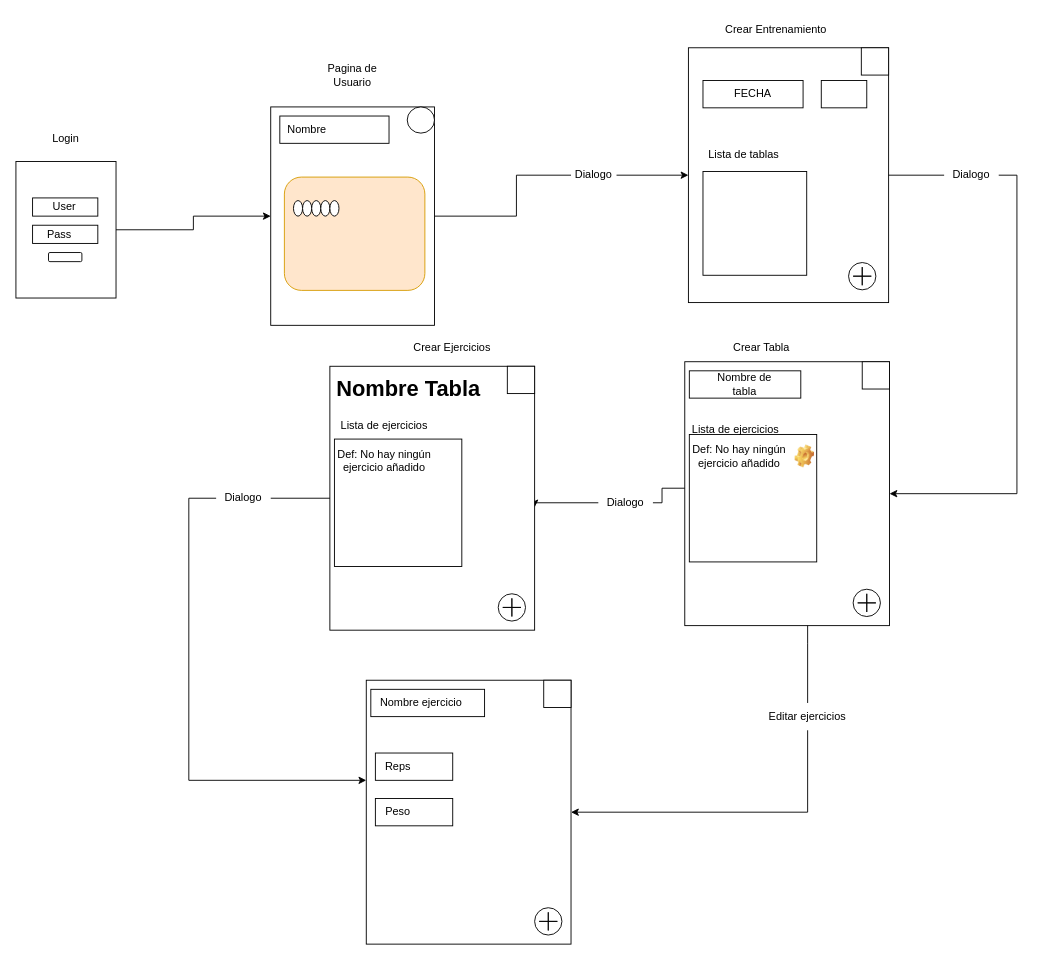
This 1040x960 diagram has some shape labels left out. Each missing label, with the centre of its shape:
Calendario: (354,233)
Def: No ha añadido niguna tabla: (754,223)
HH:MM: (843,94)
Logo: (420,119)
